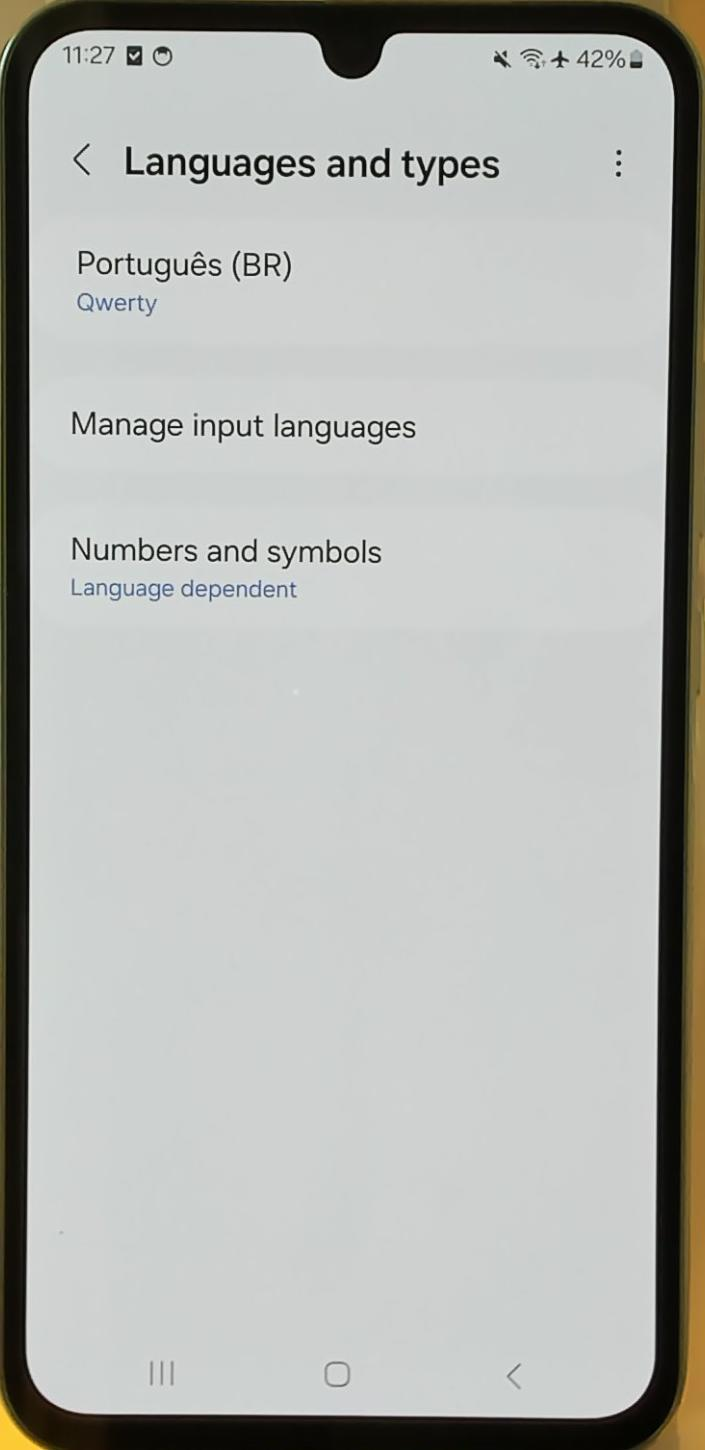CommunBotton: (66, 531, 391, 609), (74, 246, 300, 322), (67, 405, 420, 451), (68, 132, 101, 185)
menu: (606, 137, 635, 190)
